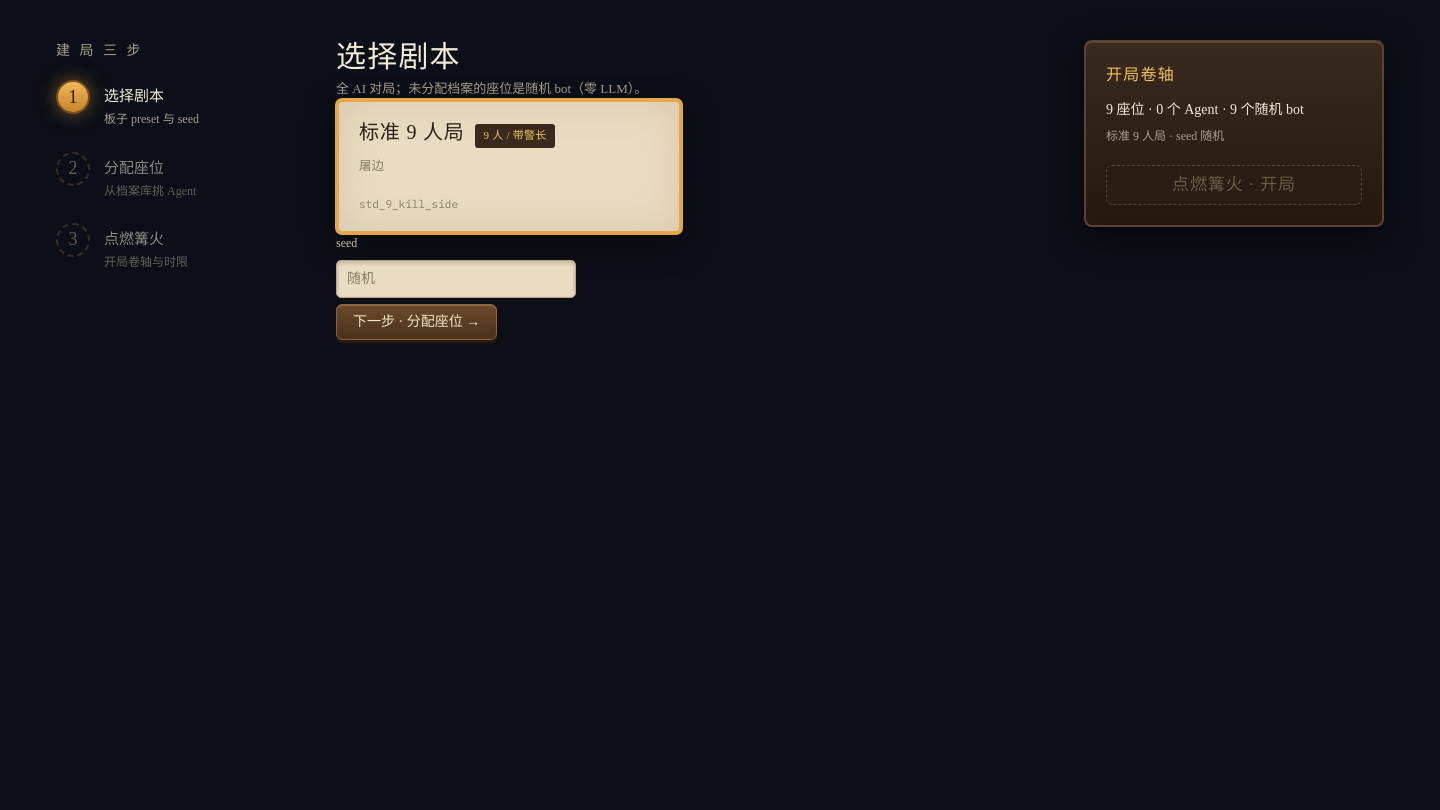
Test: Lobby 我自己入座（issue #115） › 删除返回其它错误：保留失败对局与错误，仍可重试删除
Expected: the heading "标准 9 人局" is shown, [359, 120, 465, 144]
Click the button "下一步 · 分配座位 →": click(417, 322) [336, 304, 497, 340]
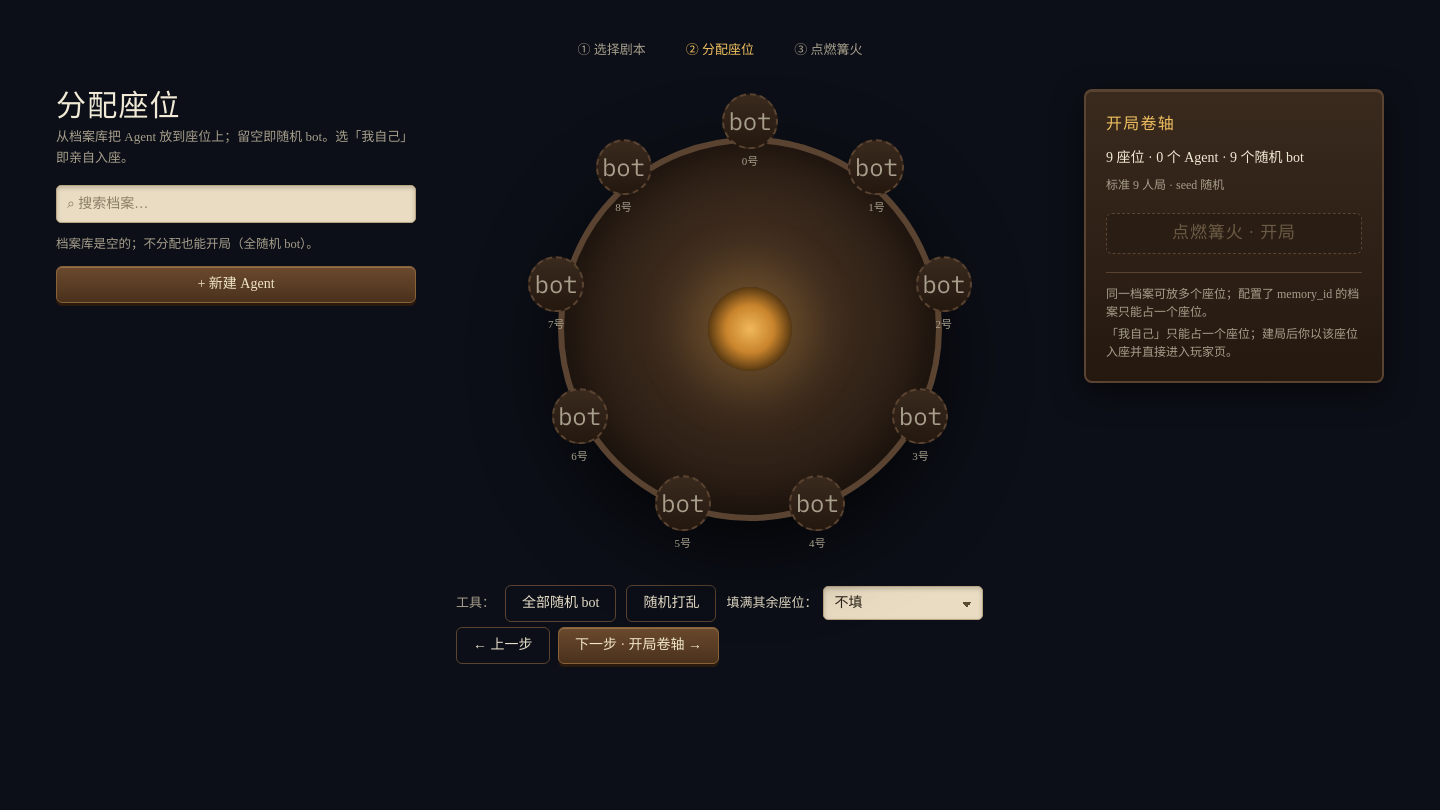
Click the button with aria-label "入座 3号": click(920, 427) [884, 388, 956, 466]
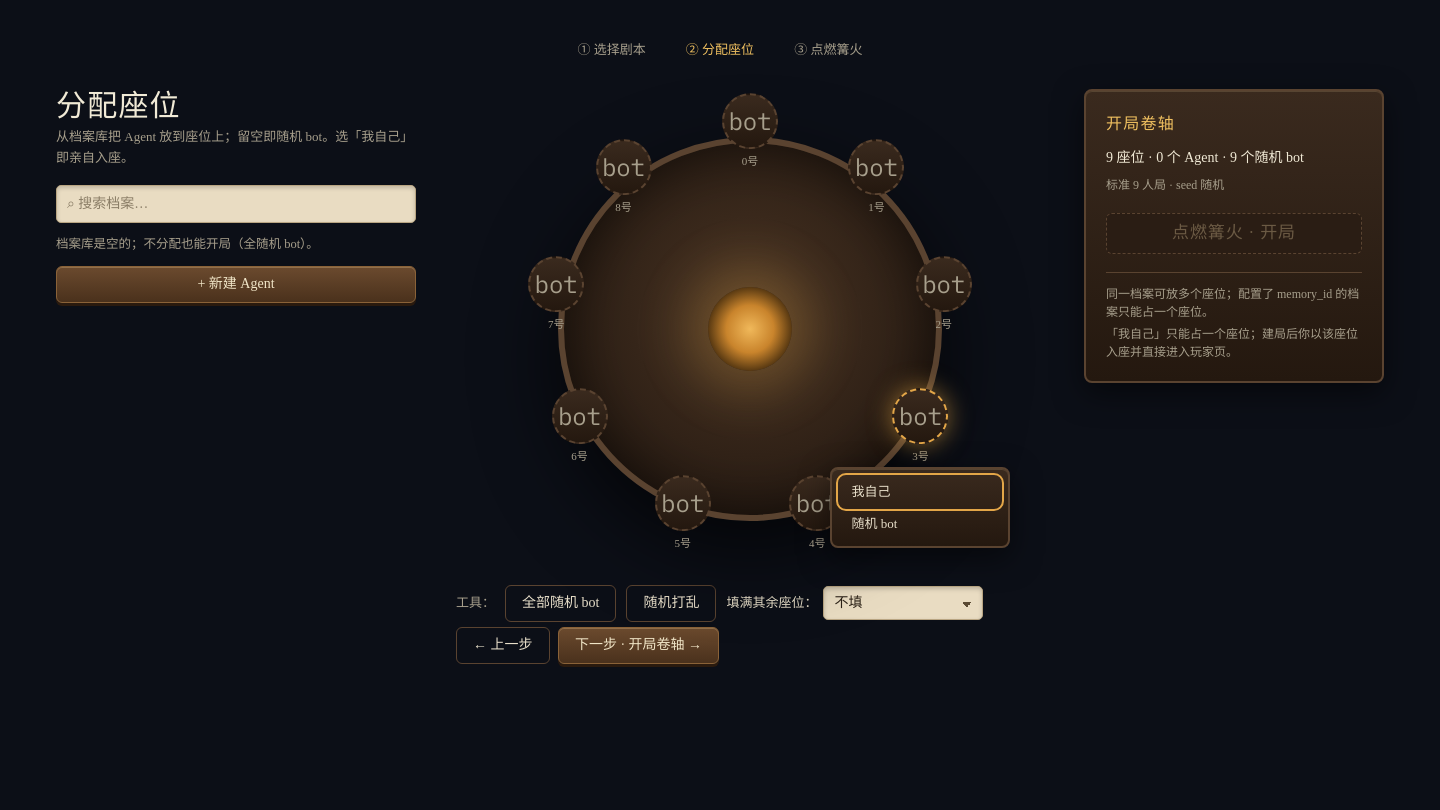
Click the menu item "我自己": click(920, 492) [840, 477, 1000, 507]
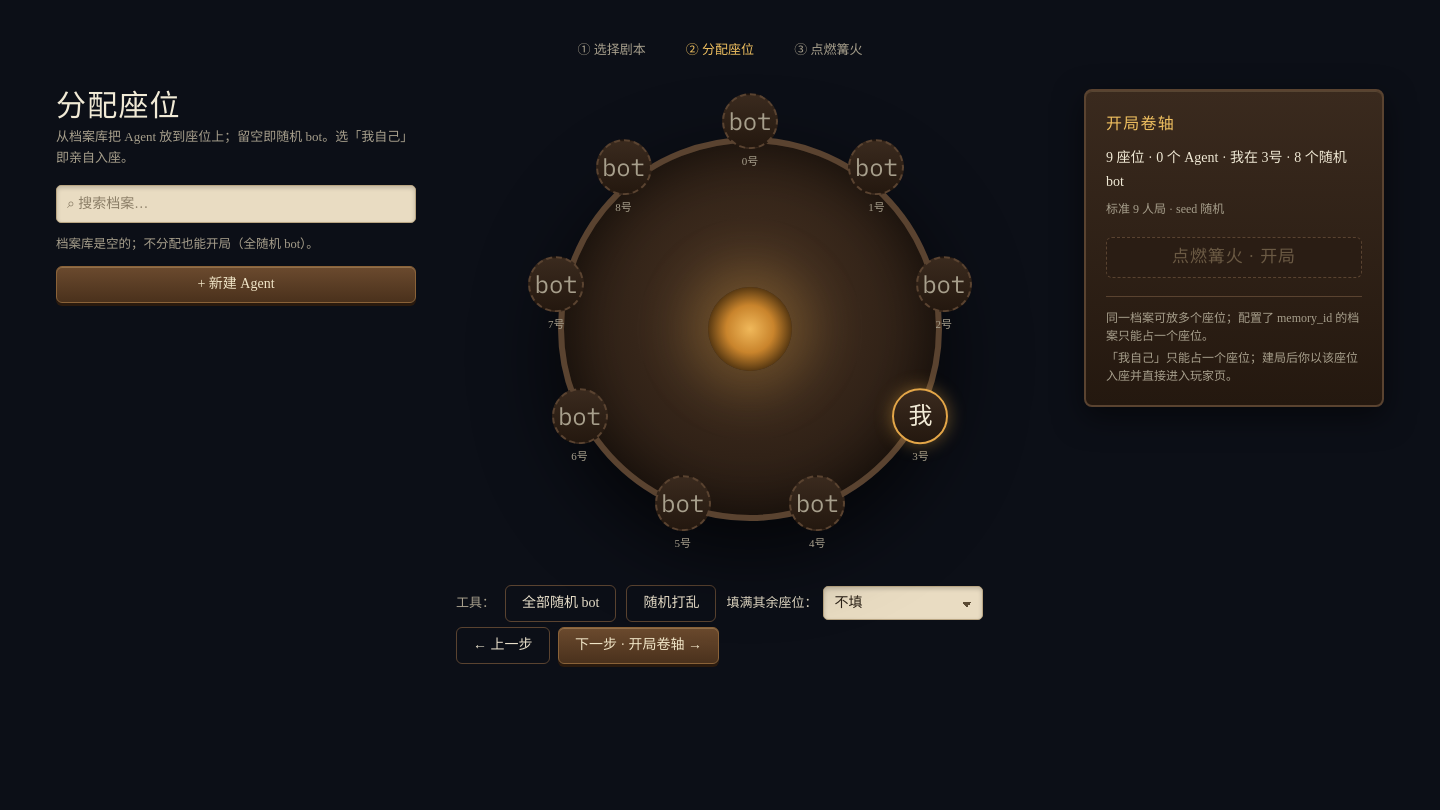
Click the button "下一步 · 开局卷轴 →": click(638, 646) [558, 627, 719, 664]
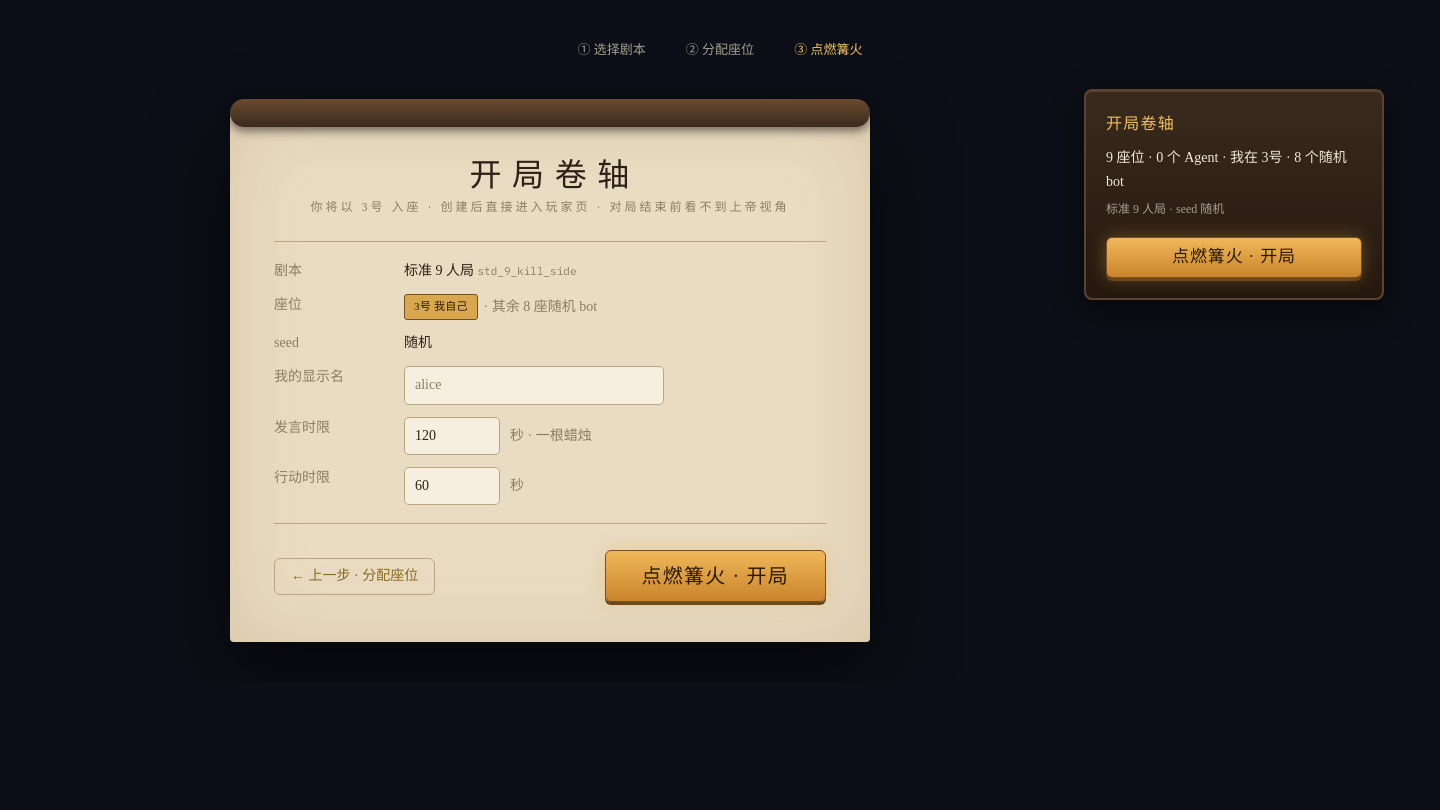
Click the button "点燃篝火 · 开局" below "秒 · 一根蜡烛": click(715, 576) [604, 550, 826, 602]
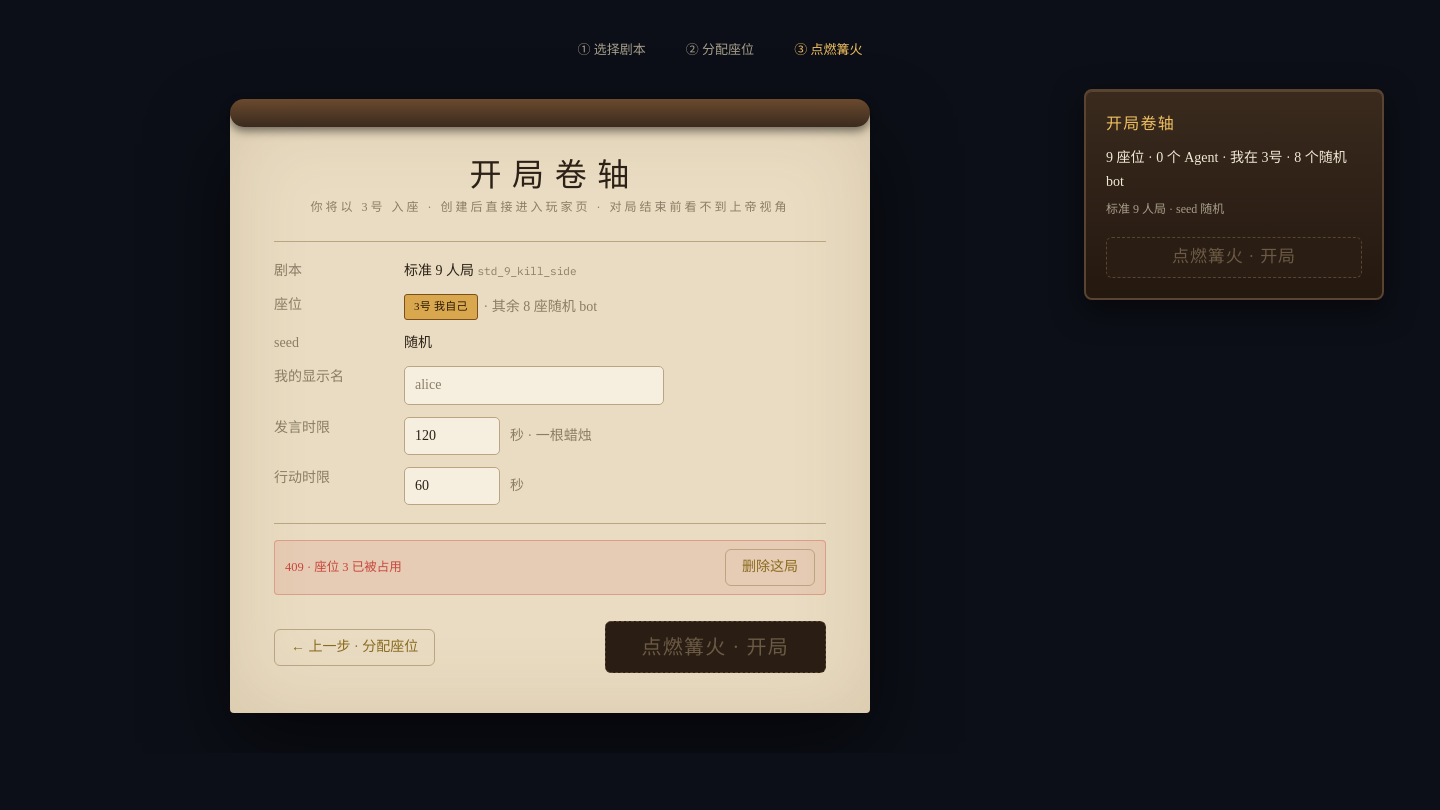
Expected: the text "409 · 座位 3 已被占用" is shown, [285, 558, 402, 577]
Click the button "删除这局": click(770, 568) [725, 549, 815, 586]
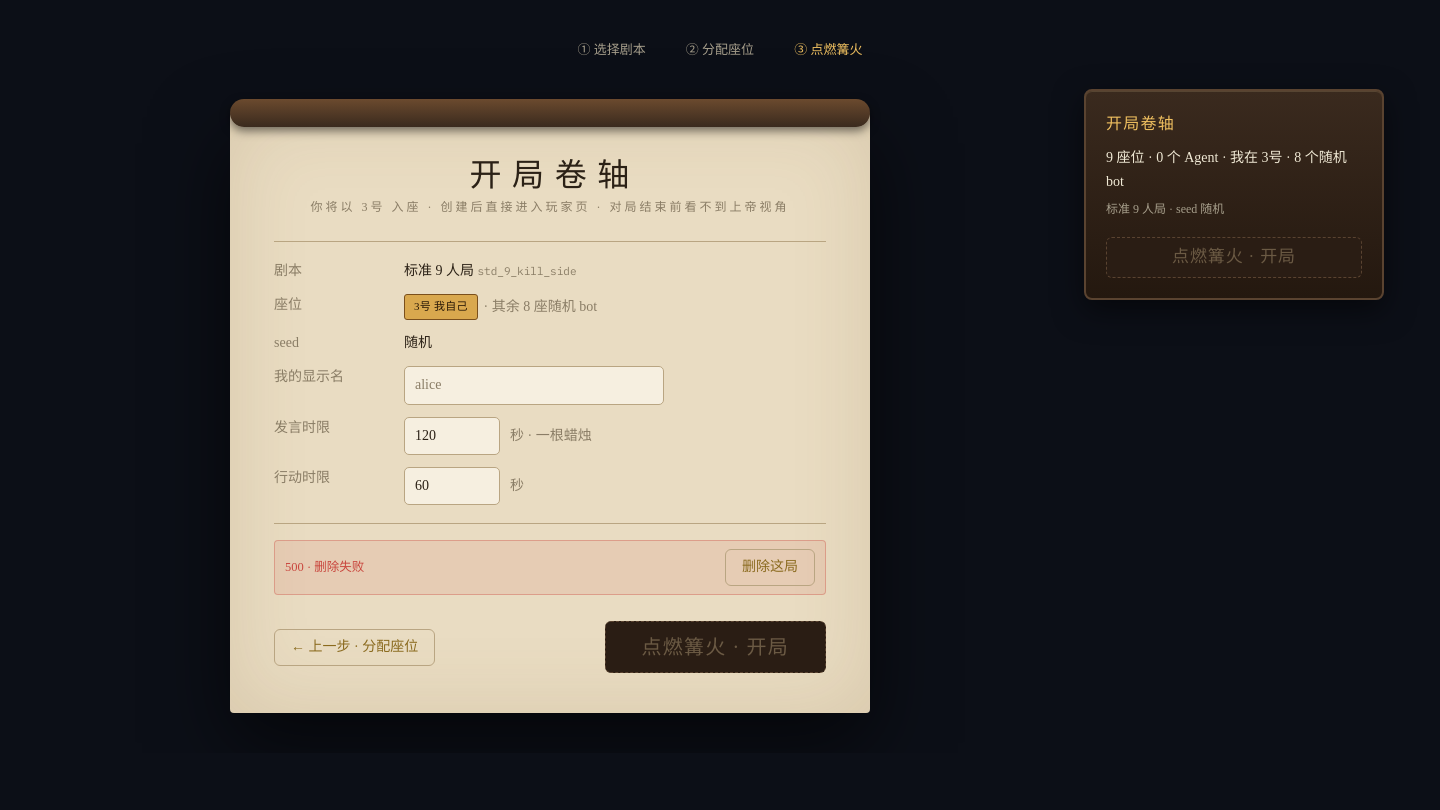
Expected: the button "删除这局" is shown, [725, 549, 815, 586]
Expected: the button "点燃篝火 · 开局" below "500 · 删除失败" is disabled, [604, 621, 826, 673]
Expected: the text "500 · 删除失败" is shown, [285, 558, 364, 577]
